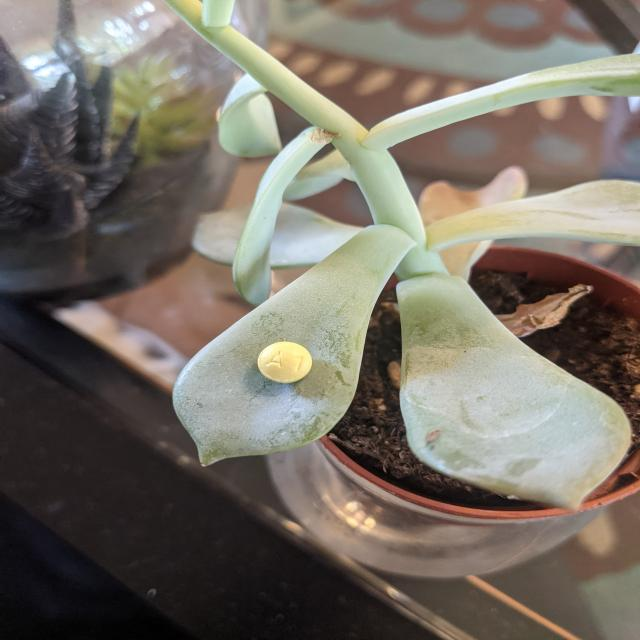non-organic waste: (257, 341, 313, 383)
